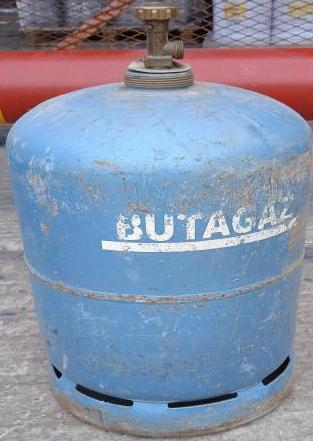cylinder: (0, 1, 313, 441)
